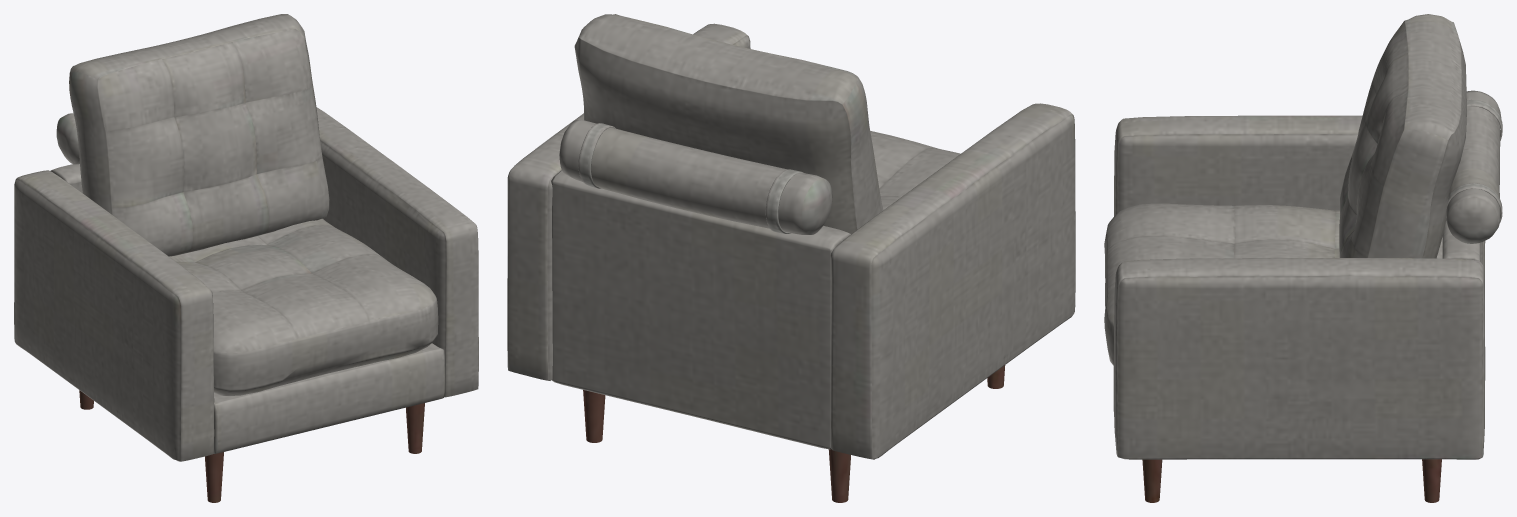
The picture shows the model from 3 angles, left to right: view 1: azimuth 30°, elevation 25°; view 2: azimuth 150°, elevation 25°; view 3: azimuth 270°, elevation 25°; orthographic projection. The views are drawn at different scales.
Parts seen in each view (by area): view 1: RootNode; view 2: RootNode; view 3: RootNode.
Part boxes in pixels (x1,y1,x2,y2): RootNode: [14, 14, 478, 502]; RootNode: [507, 14, 1075, 502]; RootNode: [1104, 14, 1502, 502].
Size of the model in its own units: 0.8381 by 0.899 by 0.8605.
Materials: 1 (1 with a texture image).
